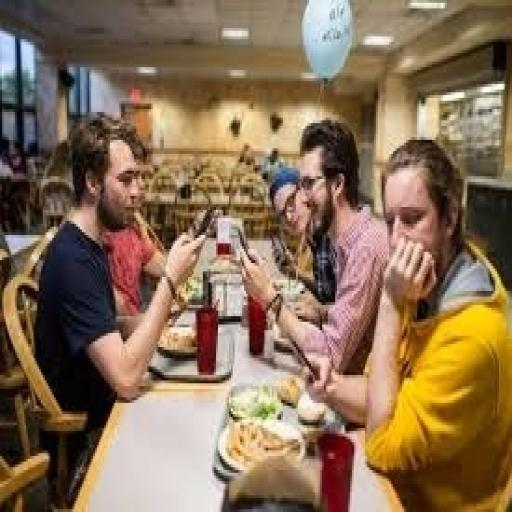eating: (30, 104, 510, 506), (304, 134, 510, 509), (32, 112, 208, 428)
